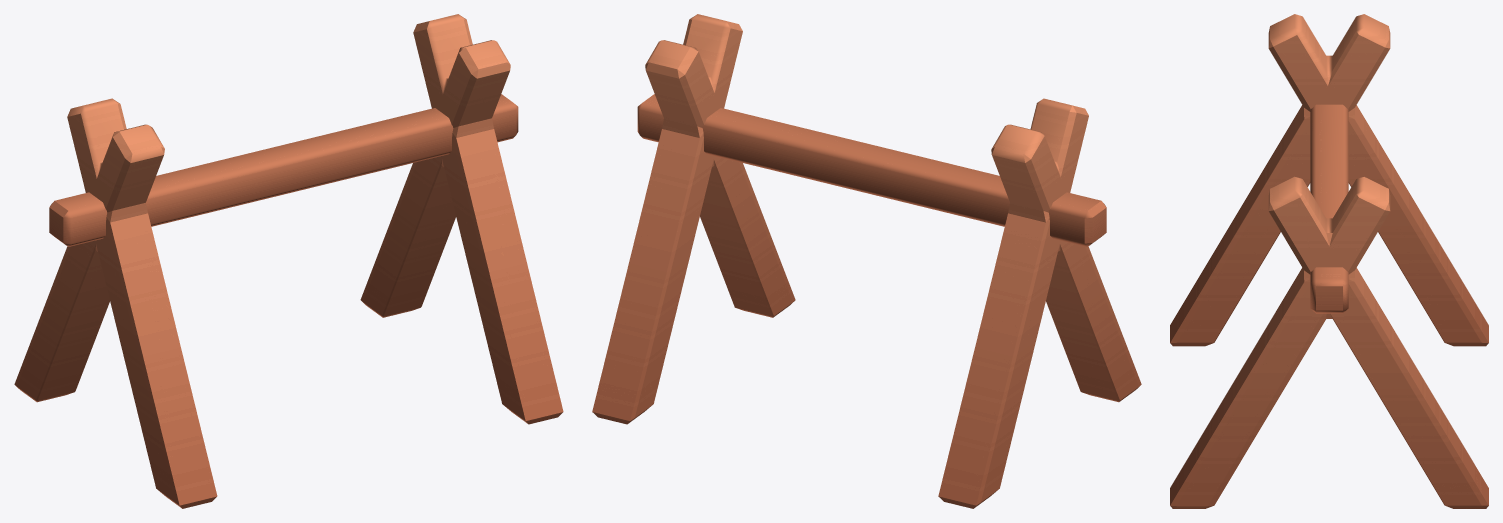
Rendered from kenney-survival__campfire-fishing-stand.glb.
The picture shows the model from 3 angles, left to right: view 1: azimuth 30°, elevation 25°; view 2: azimuth 150°, elevation 25°; view 3: azimuth 270°, elevation 25°; orthographic projection. The views are drawn at different scales.
Parts seen in each view (by area): view 1: campfire-fishing-stand; view 2: campfire-fishing-stand; view 3: campfire-fishing-stand.
Part boxes in pixels (x1,y1,x2,y2): campfire-fishing-stand: [14, 14, 563, 508]; campfire-fishing-stand: [592, 14, 1141, 508]; campfire-fishing-stand: [1170, 14, 1488, 508].
Bounding box in the file's own units: 0.3945 × 0.274 × 0.2484.
Materials: 1 (1 with a texture image).
